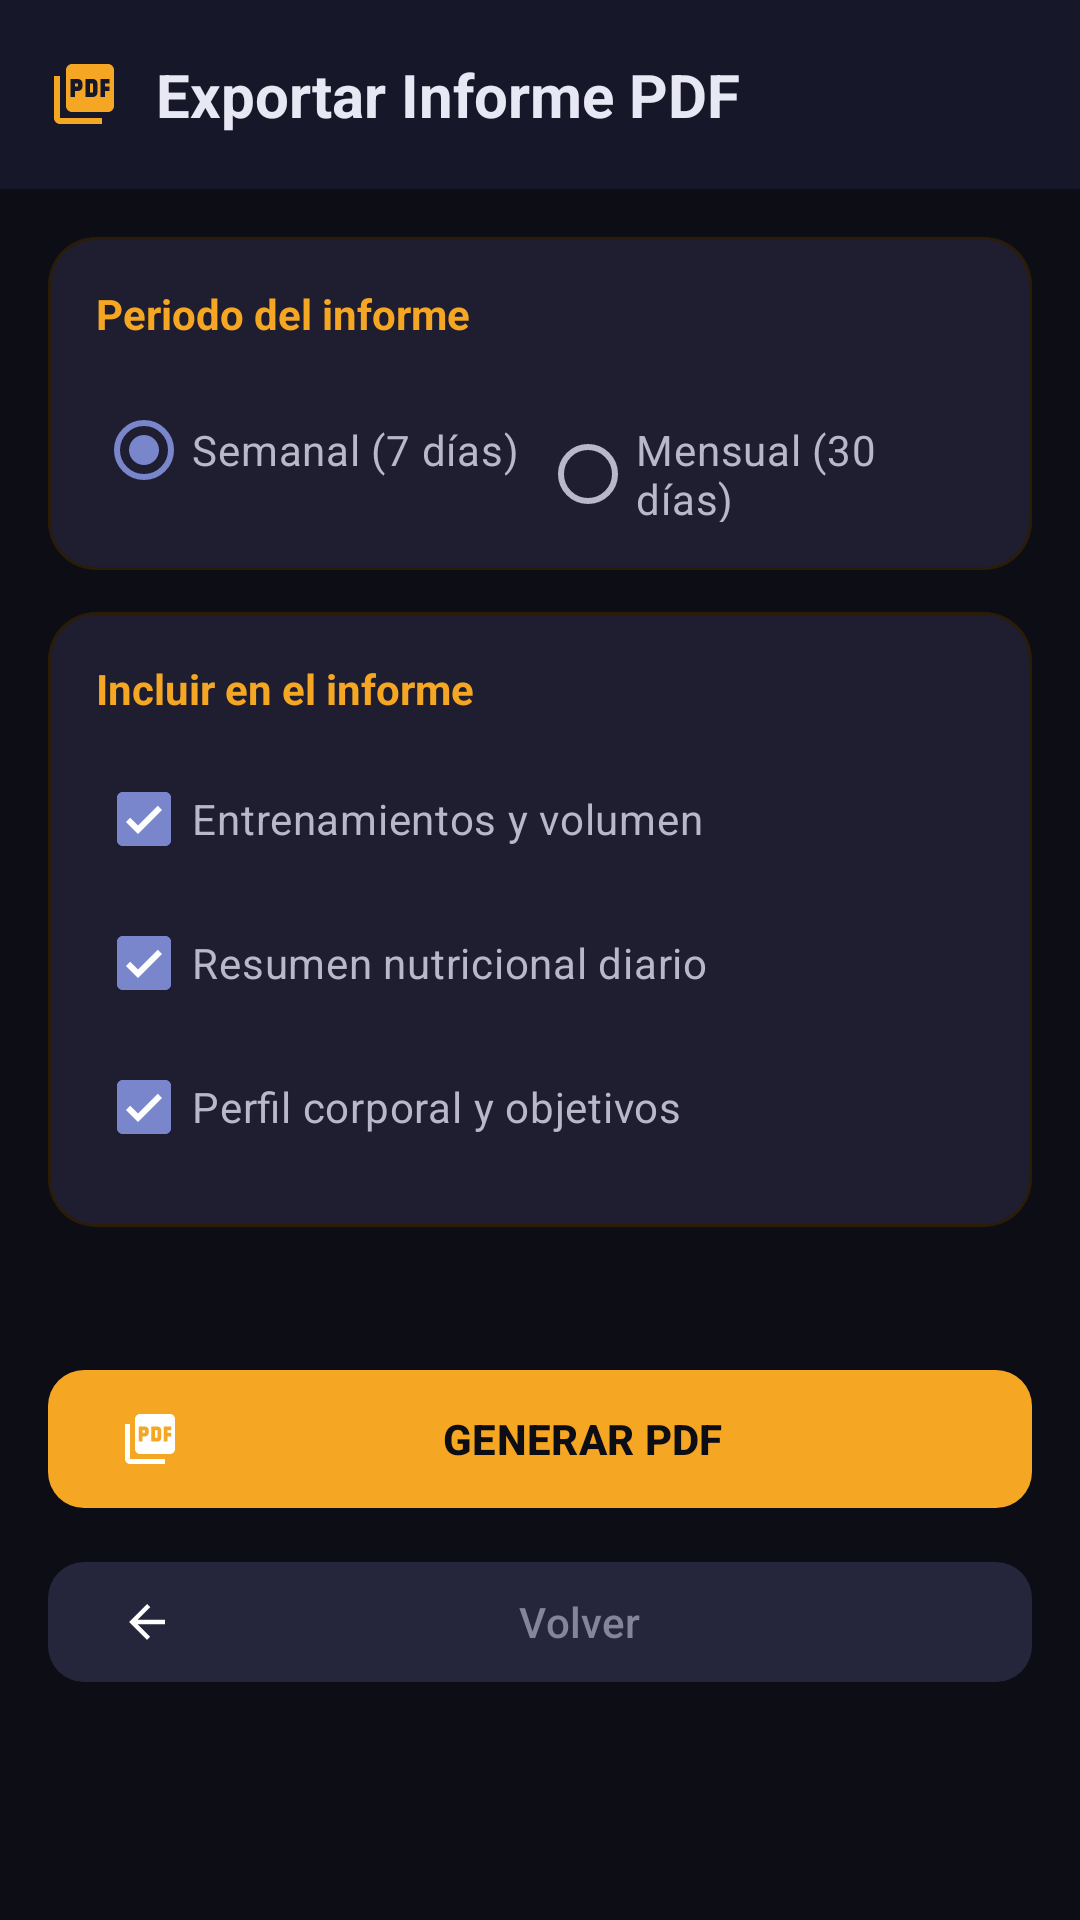

Icons on this 1080 x 1920 Android screen, each with its box as (x1, y1, x2, y2):
picture as pdf: (54, 64, 114, 124)
